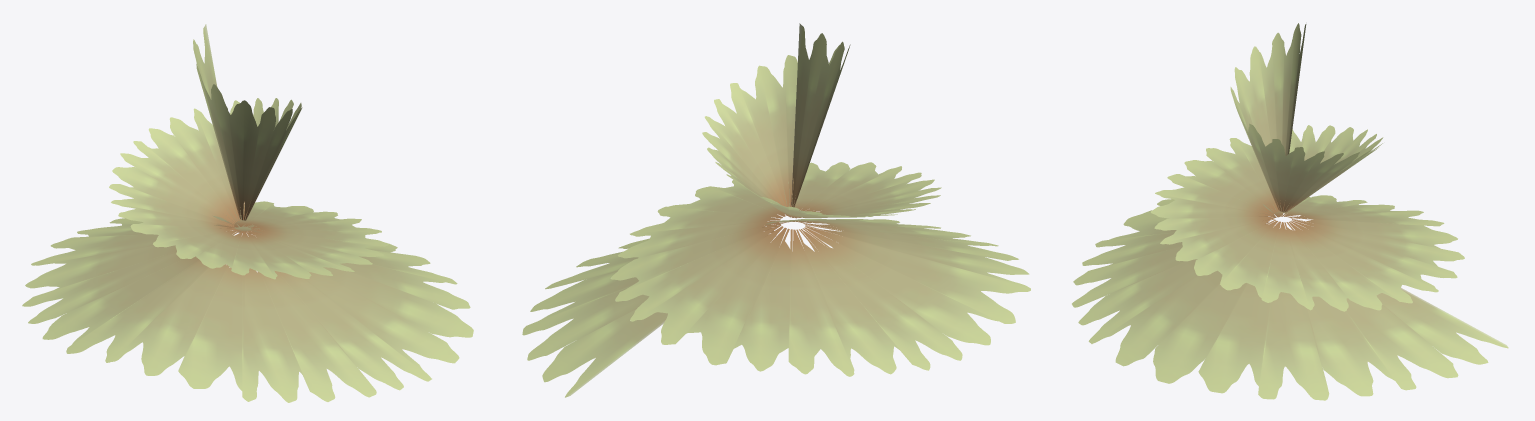
The model's file is CoralWorm_Yellow.FBX.
3 views of the same model, side by side, from view 1: azimuth 30°, elevation 25°; view 2: azimuth 150°, elevation 25°; view 3: azimuth 270°, elevation 25° (orthographic). The views are drawn at different scales.
Parts seen in each view (by area): view 1: CoralWorm_Yellow; view 2: CoralWorm_Yellow; view 3: CoralWorm_Yellow.
Boxes of the visible parts, x1,y1,x2,y2 form: CoralWorm_Yellow: (22, 24, 473, 402); CoralWorm_Yellow: (522, 23, 1030, 397); CoralWorm_Yellow: (1072, 23, 1508, 400).
Bounding box in the file's own units: 44.19 × 31.79 × 45.44.
